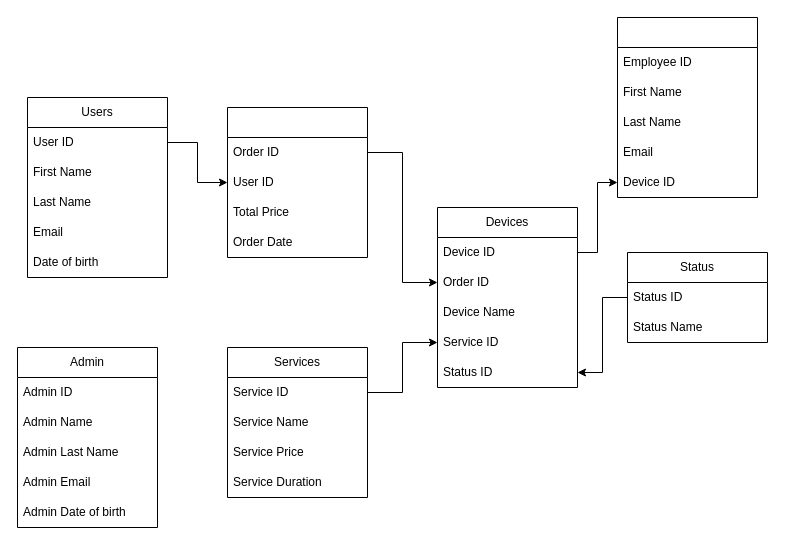
Some shapes in this 785 by 545 pixel diagram are drawn without their labels. Here are the shapes that lost their labels. From the top down, the box of each, then its label:
(616, 16, 758, 198): Employees
(226, 106, 368, 258): Orders
